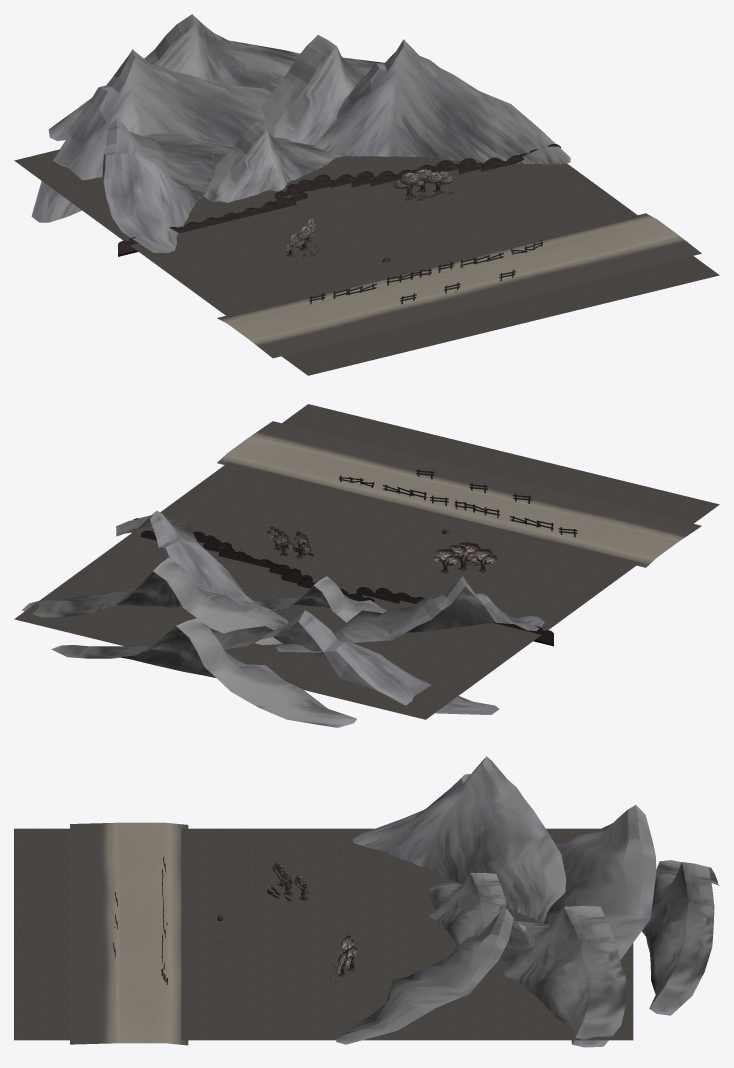
File: 337_bg_roadG.fbx
3 renders of one model, top to bottom at view 1: azimuth 30°, elevation 25°; view 2: azimuth 150°, elevation 25°; view 3: azimuth 270°, elevation 25°, orthographic. The views are drawn at different scales.
Parts seen in each view (by area): view 1: ground, bg_road_model:pPlane459, polySurface1, polySurface17, polySurface18, polySurface19, polySurface20, polySurface16; view 2: ground, bg_road_model:pPlane459, polySurface20, polySurface19, polySurface17, polySurface18, polySurface1, polySurface16; view 3: ground, bg_road_model:pPlane459, polySurface18, polySurface19, polySurface17, polySurface20, polySurface1, polySurface16.
Part boxes in pixels (<box>): ground: <box>14,149,719,375</box>; bg_road_model:pPlane459: <box>217,213,701,358</box>; polySurface1: <box>313,39,570,164</box>; polySurface17: <box>31,49,271,222</box>; polySurface18: <box>102,118,233,253</box>; polySurface19: <box>260,35,384,144</box>; polySurface20: <box>48,14,300,141</box>; polySurface16: <box>203,121,343,202</box>; ground: <box>14,404,719,719</box>; bg_road_model:pPlane459: <box>217,421,701,567</box>; polySurface20: <box>51,618,356,727</box>; polySurface19: <box>22,557,288,644</box>; polySurface17: <box>213,610,499,714</box>; polySurface18: <box>276,576,544,652</box>; polySurface1: <box>116,510,258,604</box>; polySurface16: <box>255,576,386,622</box>; ground: <box>14,828,633,1040</box>; bg_road_model:pPlane459: <box>70,822,188,1045</box>; polySurface18: <box>352,756,566,922</box>; polySurface19: <box>501,906,626,1047</box>; polySurface17: <box>544,805,656,960</box>; polySurface20: <box>642,860,719,1015</box>; polySurface1: <box>336,908,535,1044</box>; polySurface16: <box>428,873,506,945</box>.
Bounding box in the file's own units: 5571 × 1254 × 7272.
